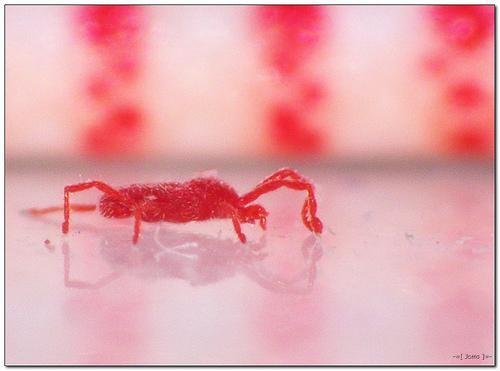tiny_pests: (9, 135, 367, 276)
